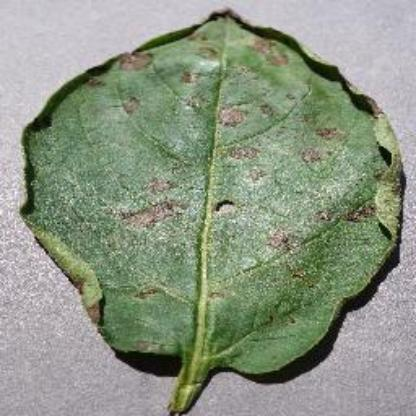Early-Blight: (20, 6, 413, 342)
